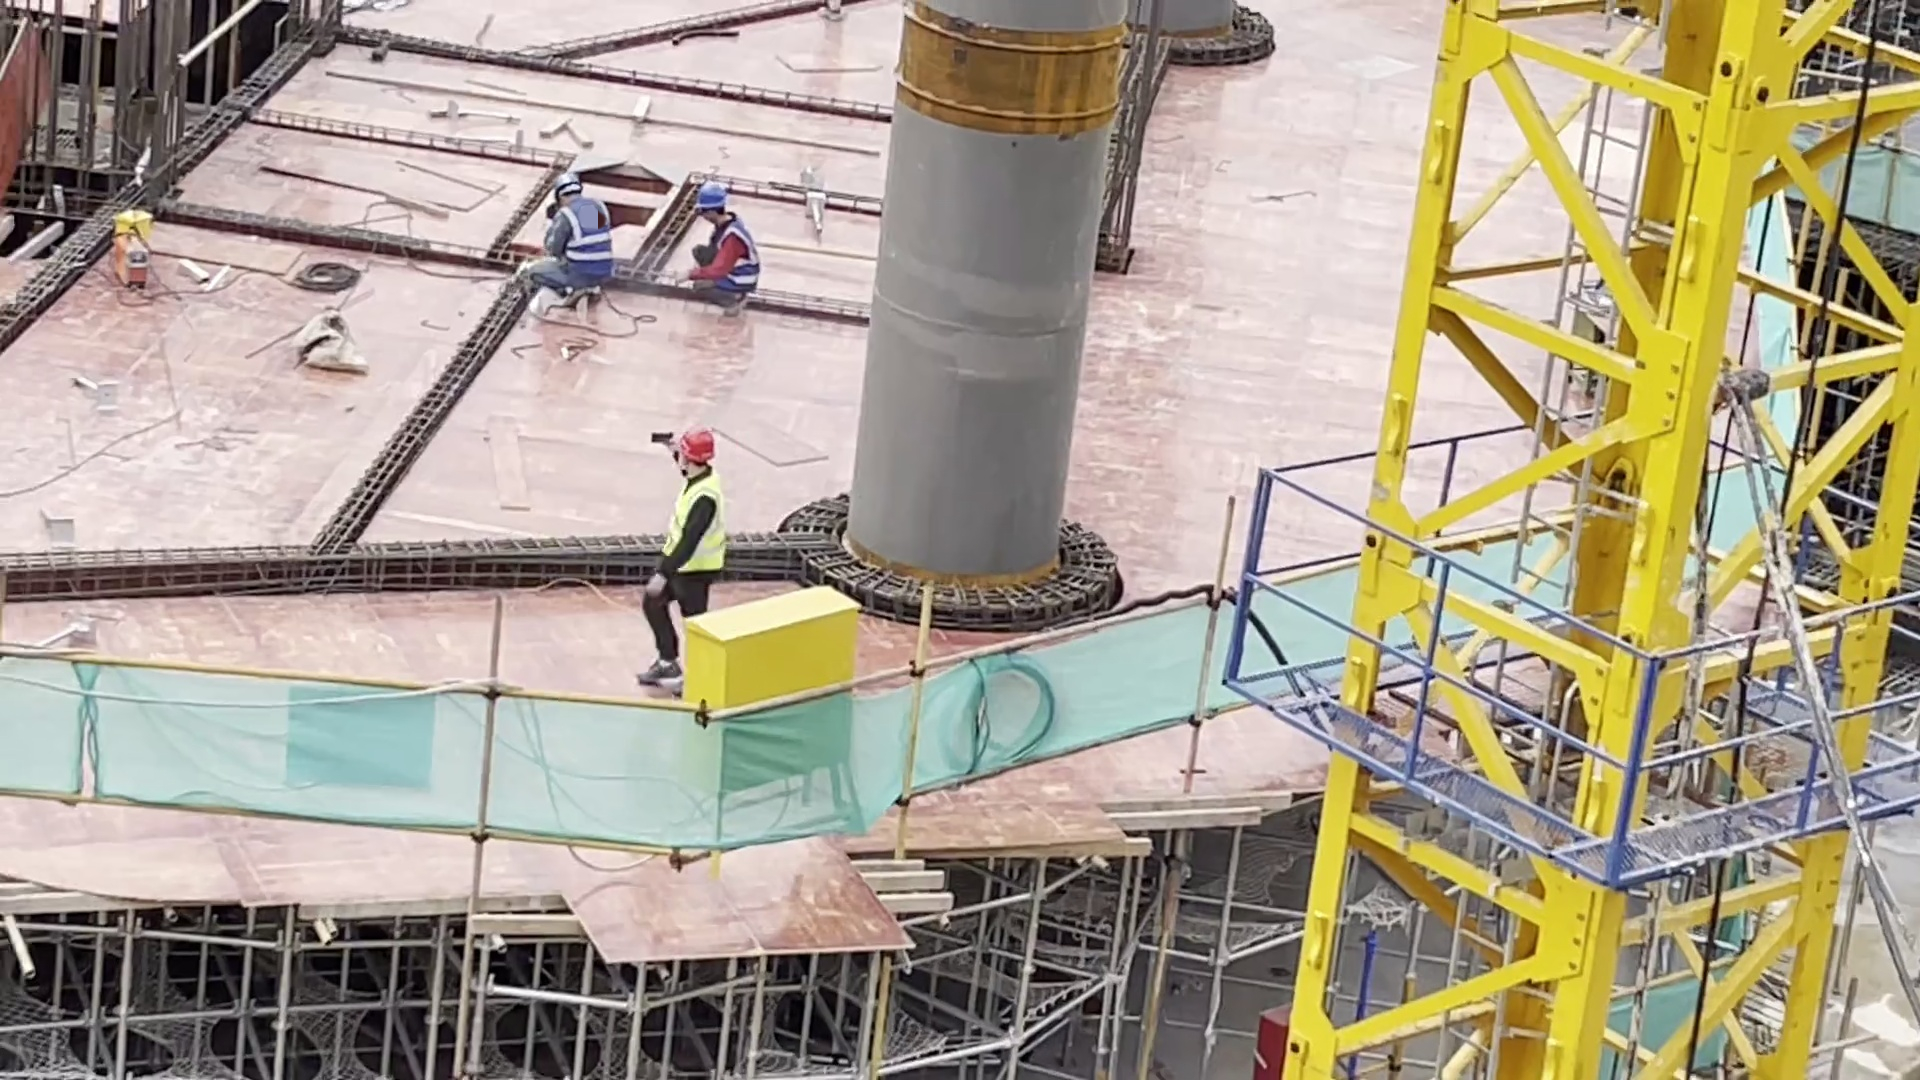helmet: (679, 425, 716, 463), (693, 180, 727, 214), (553, 171, 583, 197)
person: (637, 423, 720, 696), (520, 170, 617, 325), (673, 181, 764, 328)
vest: (664, 472, 724, 578), (549, 200, 620, 278), (709, 221, 762, 293)
